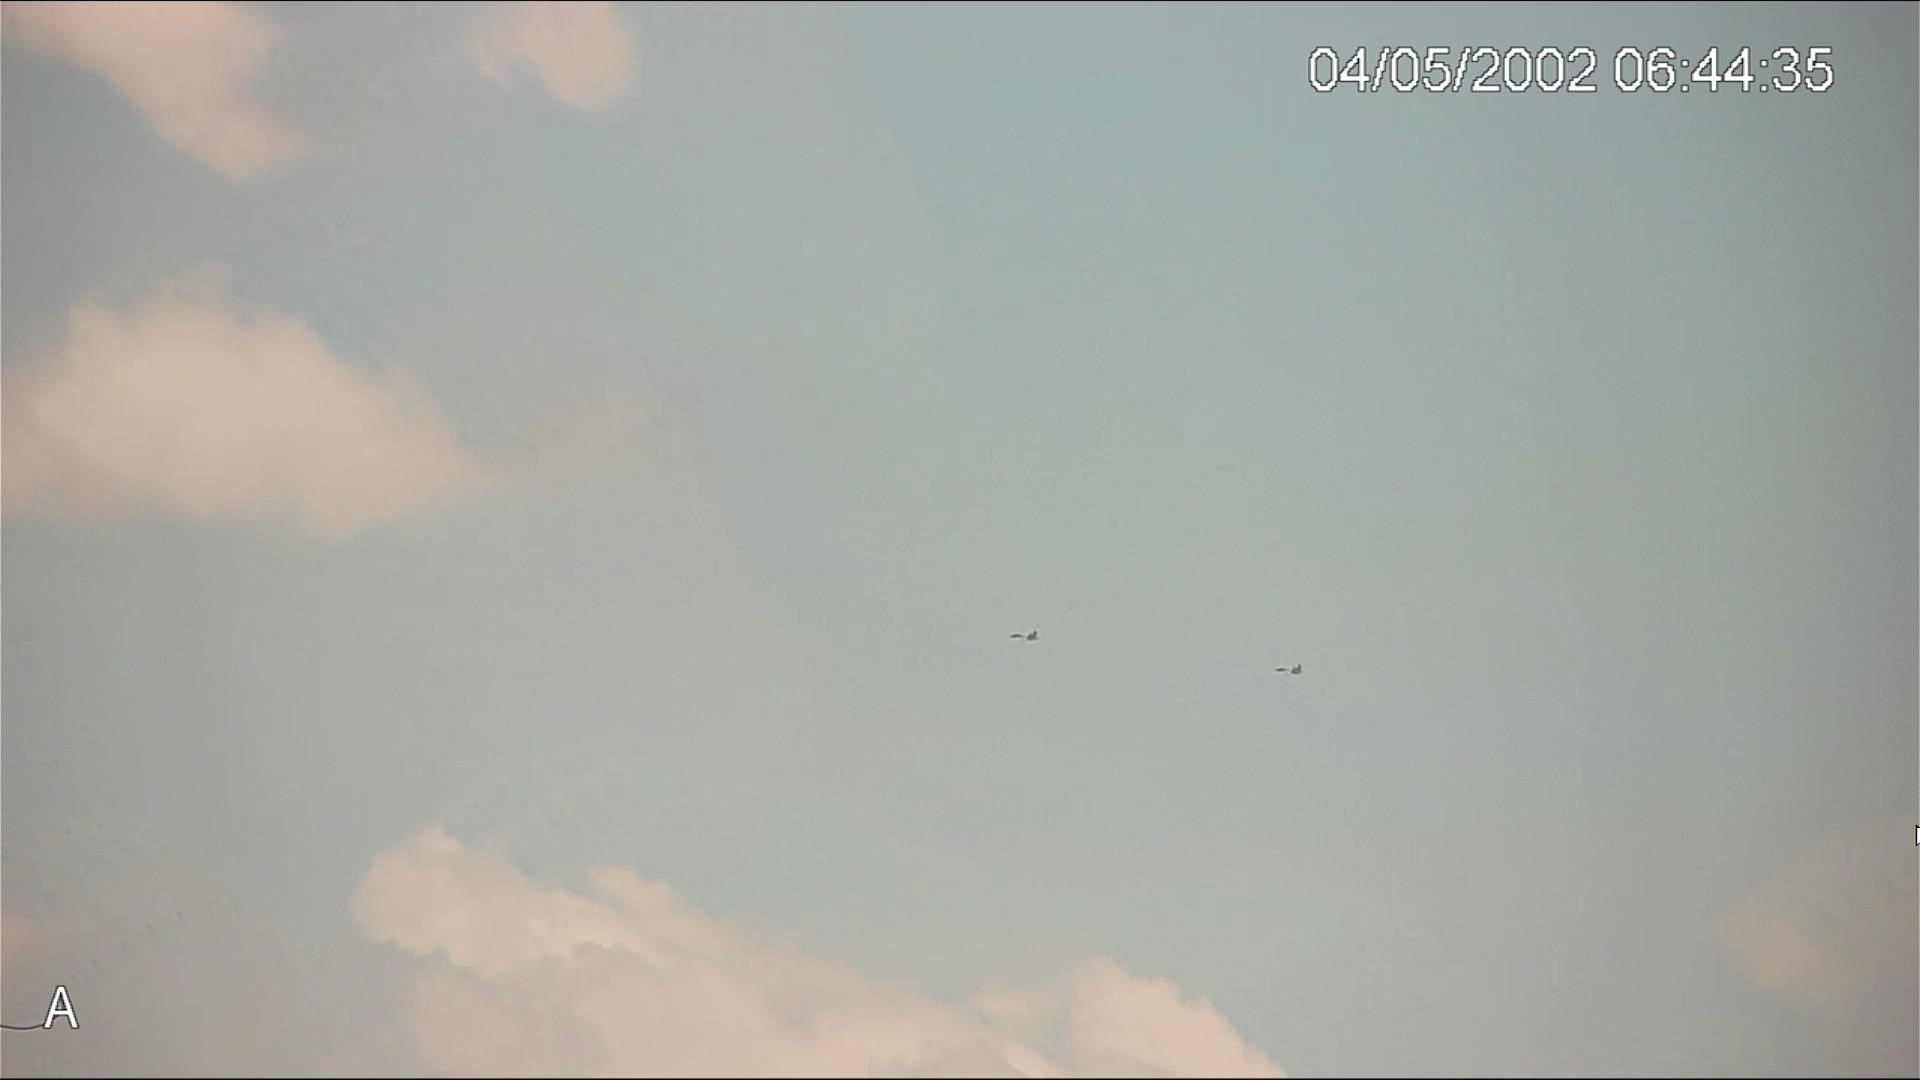SU_30: (1009, 629, 1039, 644), (1274, 663, 1305, 673)
